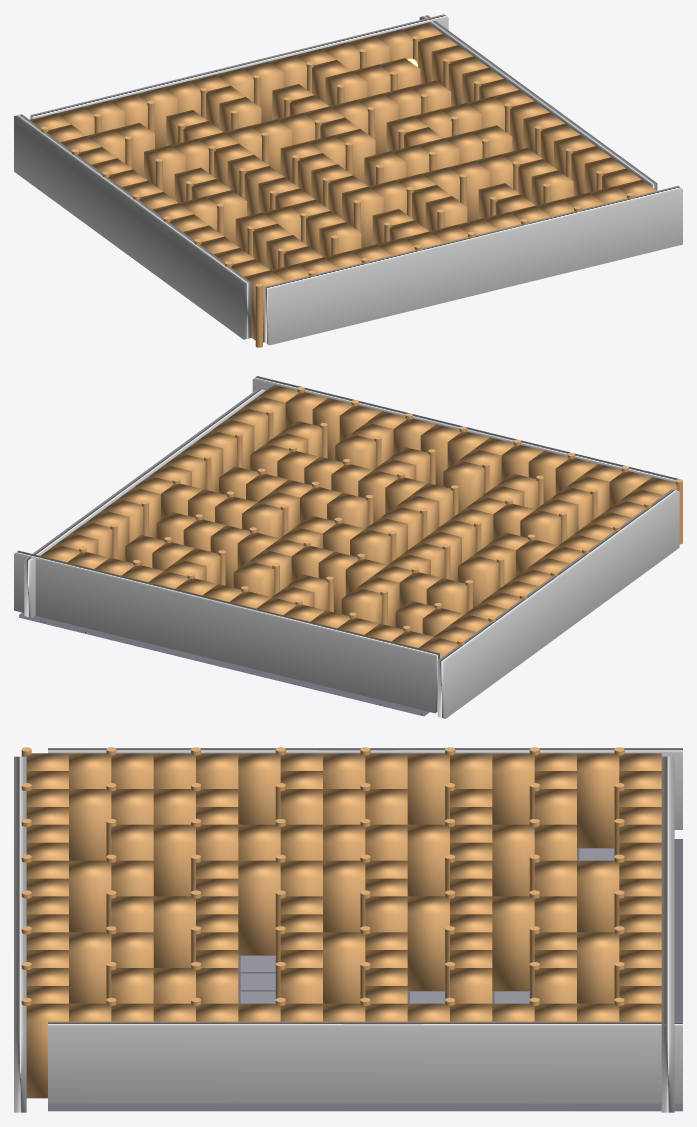
File: maze.glb
The picture shows the model from 3 angles, top to bottom: view 1: azimuth 30°, elevation 25°; view 2: azimuth 150°, elevation 25°; view 3: azimuth 270°, elevation 25°; orthographic projection. The views are drawn at different scales.
Visible parts, largest first — view 1: Frame_Top, Frame_Left, Frame_Bottom, Frame_Right, Wall_6_4, Wall_2_10, Wall_8_14, Wall_4_14, Wall_10_4, Wall_10_10, Wall_12_2, Wall_8_2 (+84 smaller); view 2: Frame_Bottom, Frame_Left, Frame_Right, Floor, Frame_Top, Wall_6_2, Wall_2_8, Wall_8_0, Wall_10_10, Wall_12_0, Wall_8_12, Wall_4_12 (+81 smaller); view 3: Frame_Right, Floor, Frame_Bottom, Frame_Top, Frame_Left, Wall_6_5, Wall_8_9, Wall_8_11, Wall_0_13, Wall_4_3, Wall_4_9, Wall_4_11 (+123 smaller).
Boxes of the visible parts, <box> form: Frame_Top: <box>264,185,682,345</box>; Frame_Left: <box>14,114,251,339</box>; Frame_Bottom: <box>30,14,448,119</box>; Frame_Right: <box>419,15,657,190</box>; Wall_6_4: <box>342,186,383,247</box>; Wall_2_10: <box>144,145,185,199</box>; Wall_8_14: <box>242,61,283,122</box>; Wall_4_14: <box>136,87,177,148</box>; Wall_10_4: <box>448,160,489,221</box>; Wall_10_10: <box>356,93,397,154</box>; Wall_12_2: <box>531,170,573,205</box>; Wall_8_2: <box>425,196,467,231</box>; Frame_Bottom: <box>14,550,439,713</box>; Frame_Left: <box>437,489,679,718</box>; Frame_Right: <box>24,388,265,617</box>; Floor: <box>19,612,429,716</box>; Frame_Top: <box>252,376,678,482</box>; Wall_6_2: <box>443,460,484,512</box>; Wall_2_8: <box>458,555,498,607</box>; Wall_8_0: <box>420,424,460,486</box>; Wall_10_10: <box>210,525,250,587</box>; Wall_12_0: <box>312,398,352,460</box>; Wall_8_12: <box>233,561,274,596</box>; Wall_4_12: <box>341,587,382,623</box>; Frame_Right: <box>48,1021,682,1103</box>; Floor: <box>48,839,682,1111</box>; Frame_Bottom: <box>661,756,674,1112</box>; Frame_Top: <box>14,756,26,1112</box>; Frame_Left: <box>48,748,682,829</box>; Wall_6_5: <box>238,860,280,955</box>; Wall_8_9: <box>407,896,449,990</box>; Wall_8_11: <box>492,896,534,990</box>; Wall_0_13: <box>577,753,619,847</box>; Wall_4_3: <box>153,824,195,896</box>; Wall_4_9: <box>407,824,449,896</box>; Wall_4_11: <box>492,824,534,896</box>.
Bounding box in the file's own units: 16.1 × 2.2 × 15.8.
